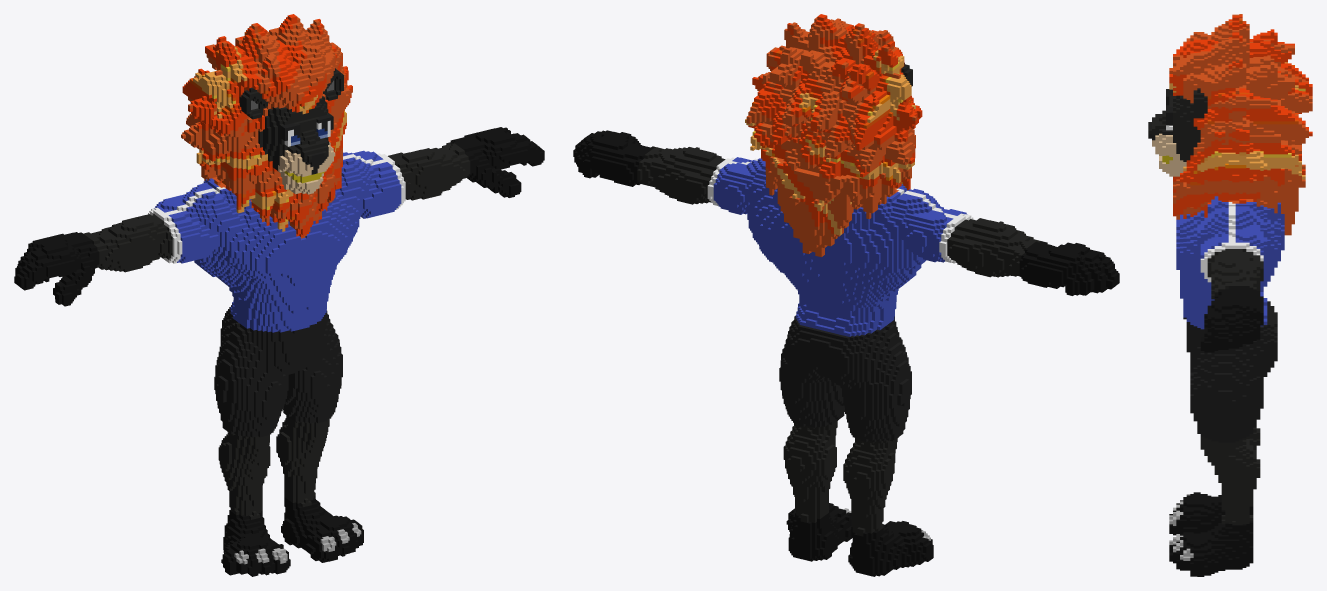
File: 115-CnBUK7j_.glb
3 views of the same model, side by side, from view 1: azimuth 30°, elevation 25°; view 2: azimuth 150°, elevation 25°; view 3: azimuth 270°, elevation 25° (orthographic). The views are drawn at different scales.
Parts seen in each view (by area): view 1: gold_smile; view 2: gold_smile; view 3: gold_smile.
Boxes of the visible parts, x1,y1,x2,y2 form: gold_smile: [14, 14, 544, 576]; gold_smile: [573, 14, 1119, 576]; gold_smile: [1148, 14, 1312, 576].
Size of the model in its own units: 17.2 by 16.5 by 4.7.
5 materials, 5 textured.
